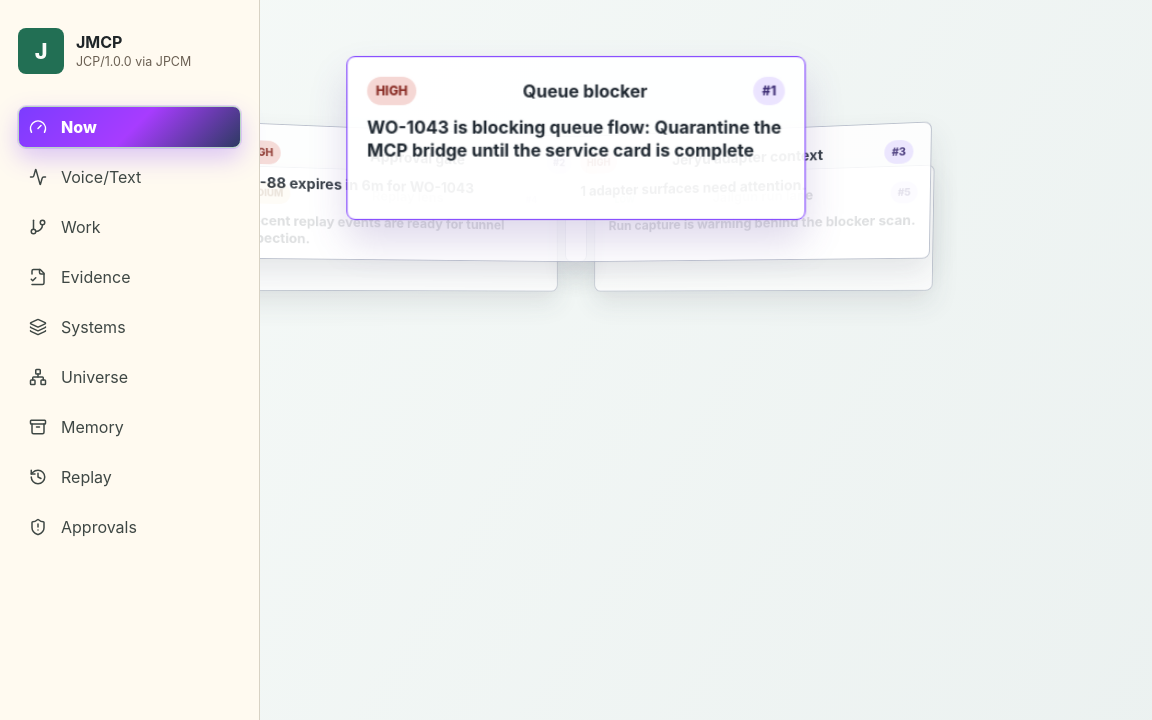
Scenario: JMCP cockpit › opens the memory slice with promotion and quarantine drill-down
The image size is (1152, 720).
Click the button "Memory".
click(130, 427)  # box x1=18 y1=406 x2=241 y2=448
(page scrolled)
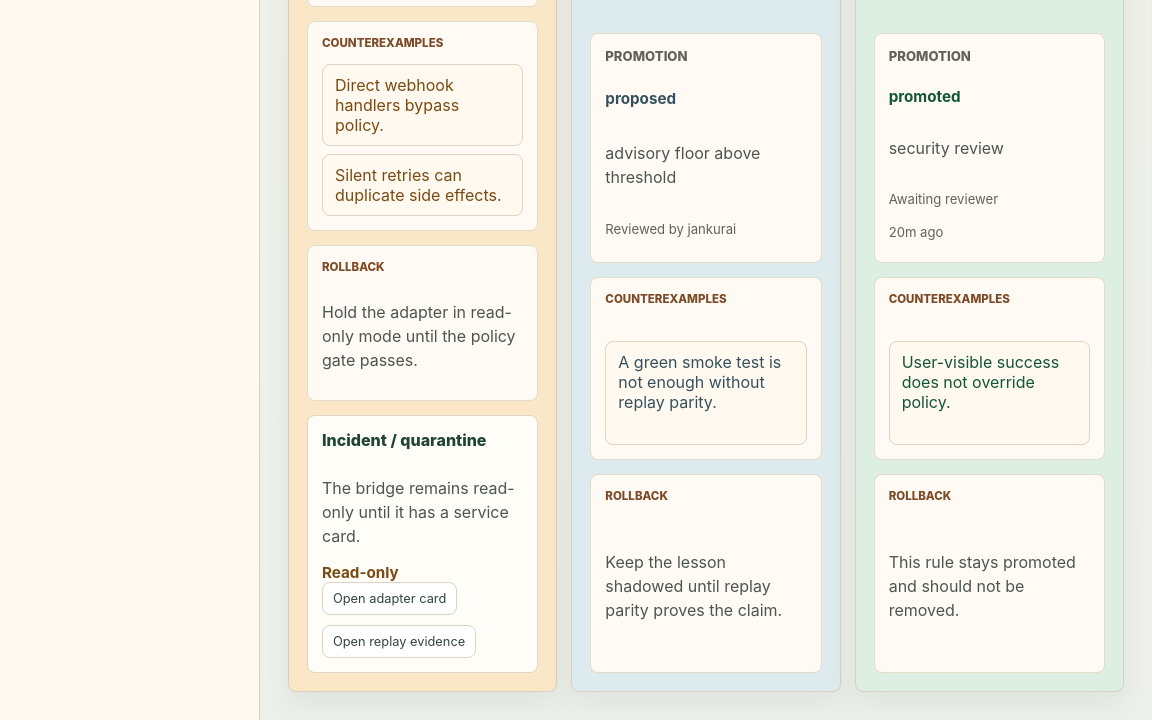
Result: the heading "Incident / quarantine" is shown at x1=322 y1=430 x2=486 y2=450
